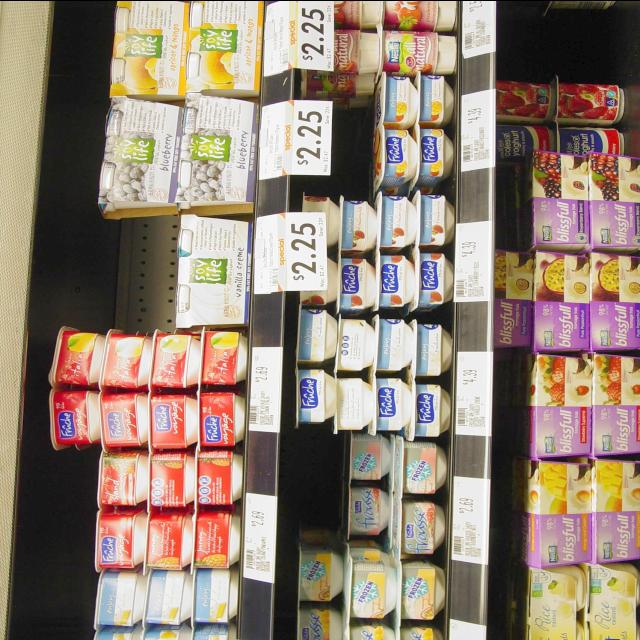empty_space: (13, 454, 91, 640), (47, 218, 173, 314), (49, 0, 98, 207), (289, 434, 346, 535), (331, 100, 377, 187)
